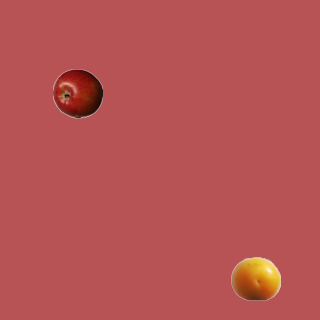Apple Braeburn: (52, 68, 102, 118)
Cherry Wax Yellow: (230, 253, 280, 303)
